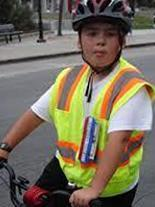Vest: (56, 62, 141, 194)
